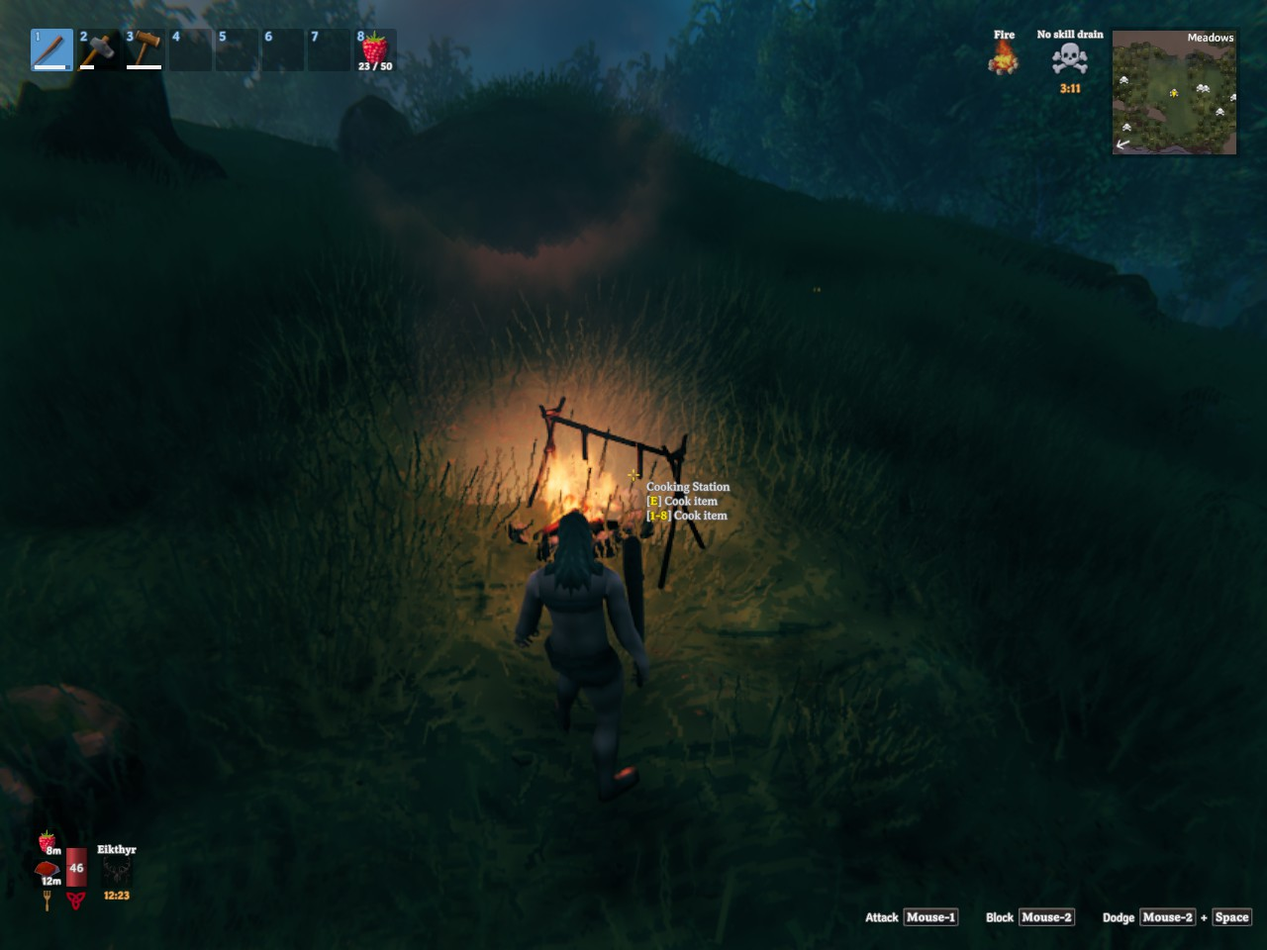Cook Station: (516, 395, 718, 503)
